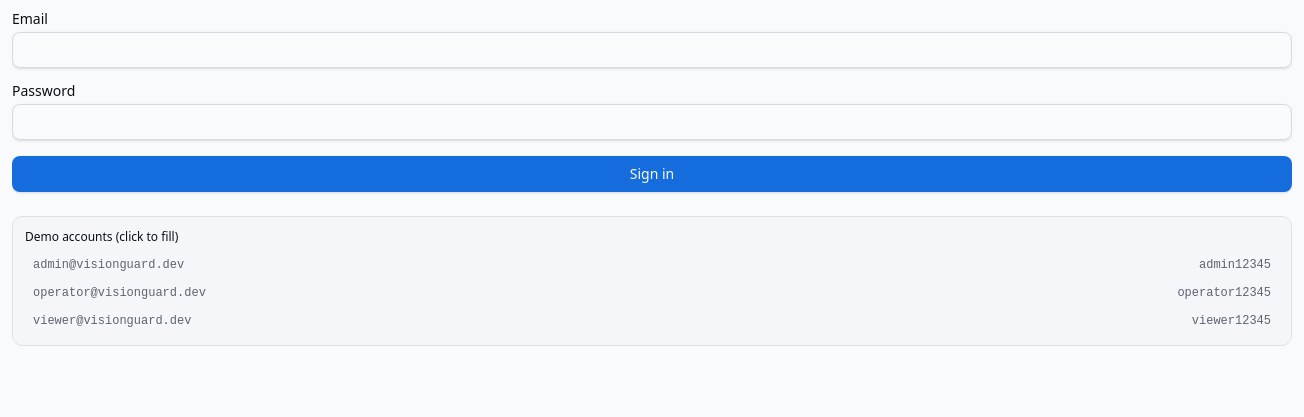
Test case: LoginForm › shows the server error message
The width and height of the screenshot is (1304, 417).
In the field labelled "Email": (652, 50) 12,32 -> 1292,68, type "a@b.co"
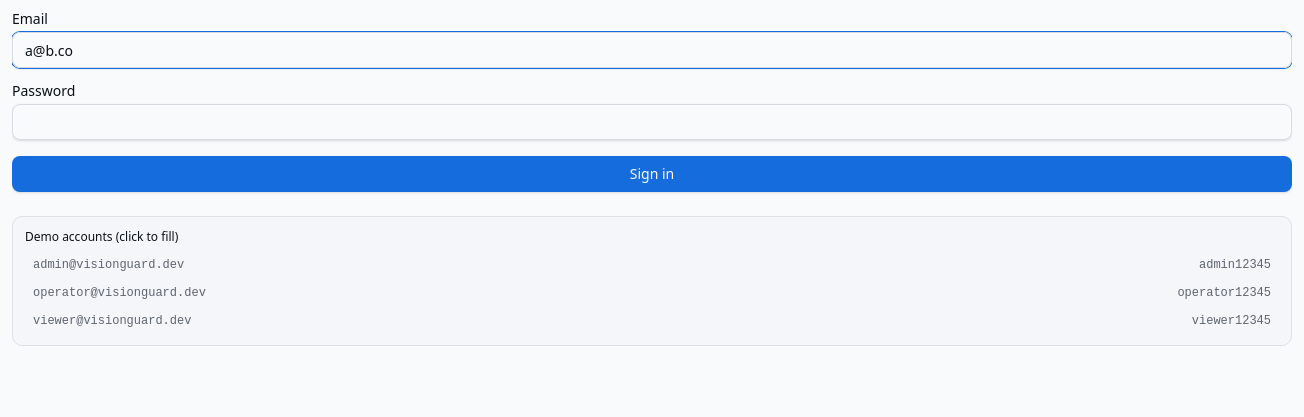
In the password field labelled "Password": (652, 122) 12,104 -> 1292,140, type "wrong"
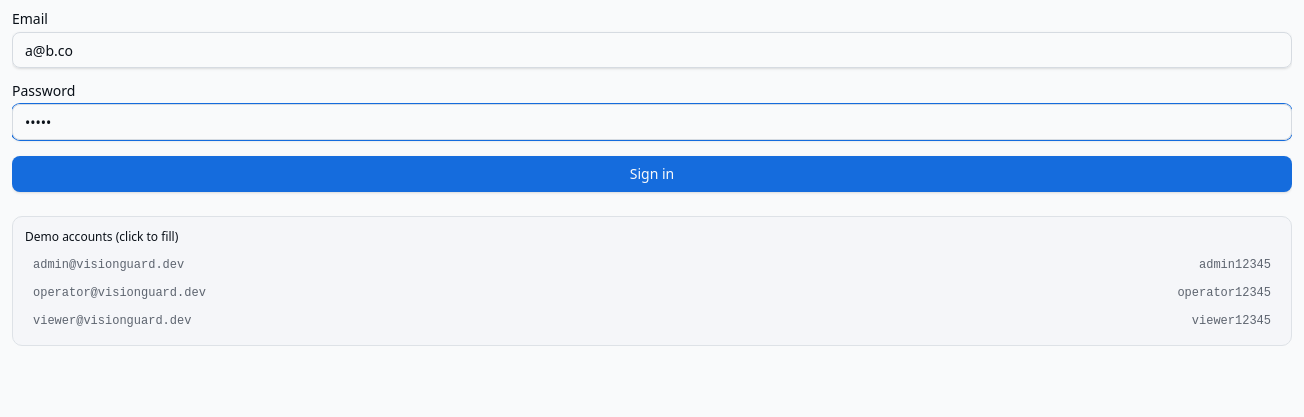
Click the button "Sign in": click(652, 174) 12,156 -> 1292,192
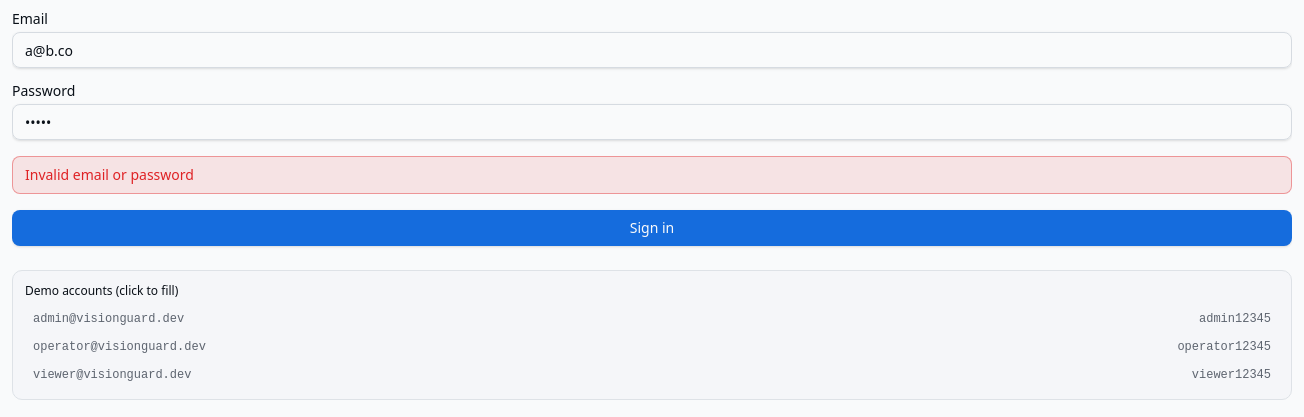
Now the message reads "Invalid email or password", box 25,165 -> 194,184
